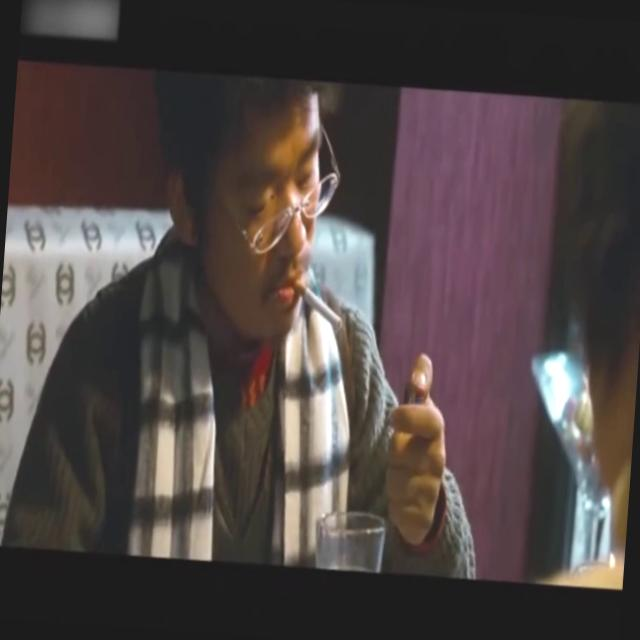cigarette: (294, 278, 344, 330)
